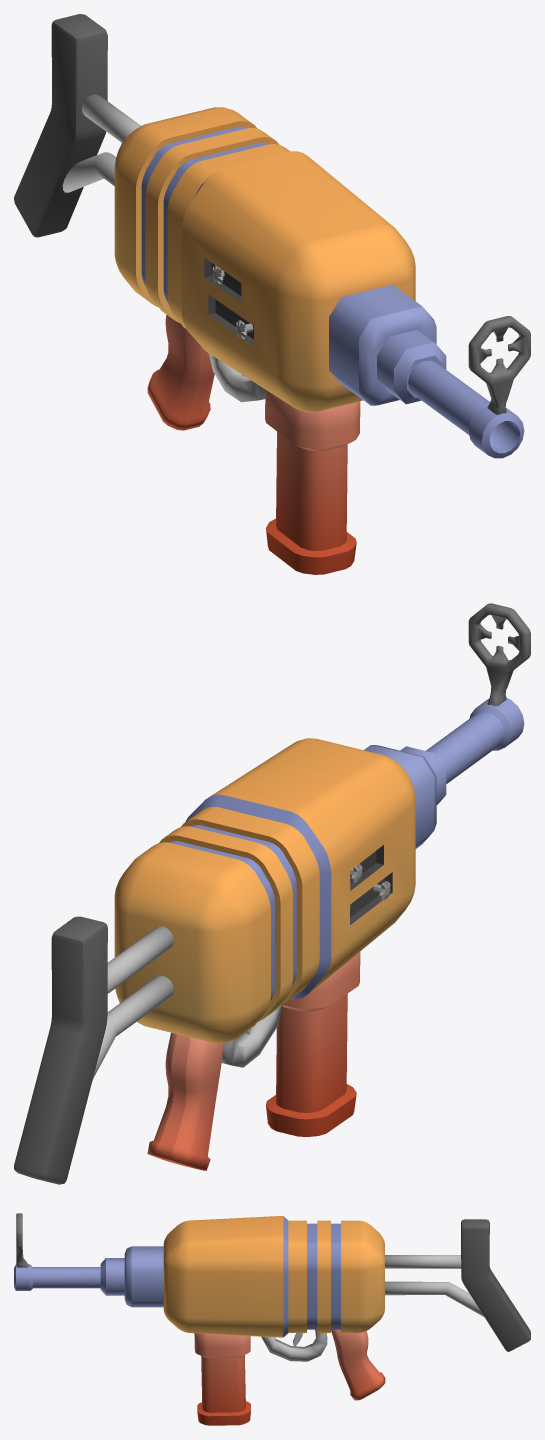
File: SemiMachingun.fbx
3 views of the same model, one above another, from view 1: azimuth 30°, elevation 25°; view 2: azimuth 150°, elevation 25°; view 3: azimuth 270°, elevation 25° (orthographic). The views are drawn at different scales.
Parts seen in each view (by area): view 1: SemiMachingun; view 2: SemiMachingun; view 3: SemiMachingun.
Part boxes in pixels (x1,y1,x2,y2): SemiMachingun: (14,14,530,574); SemiMachingun: (14,603,530,1184); SemiMachingun: (14,1213,530,1425).
Size of the model in its own units: 0.0935 by 0.517 by 0.2234.
